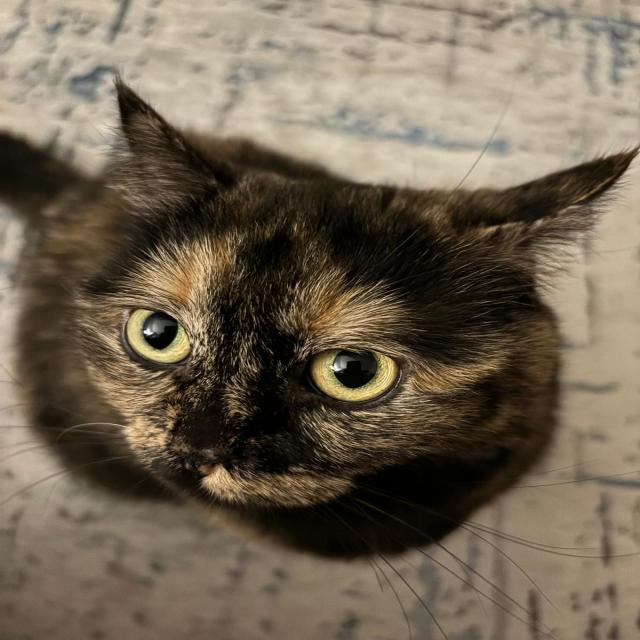authorized: (1, 70, 638, 638)
